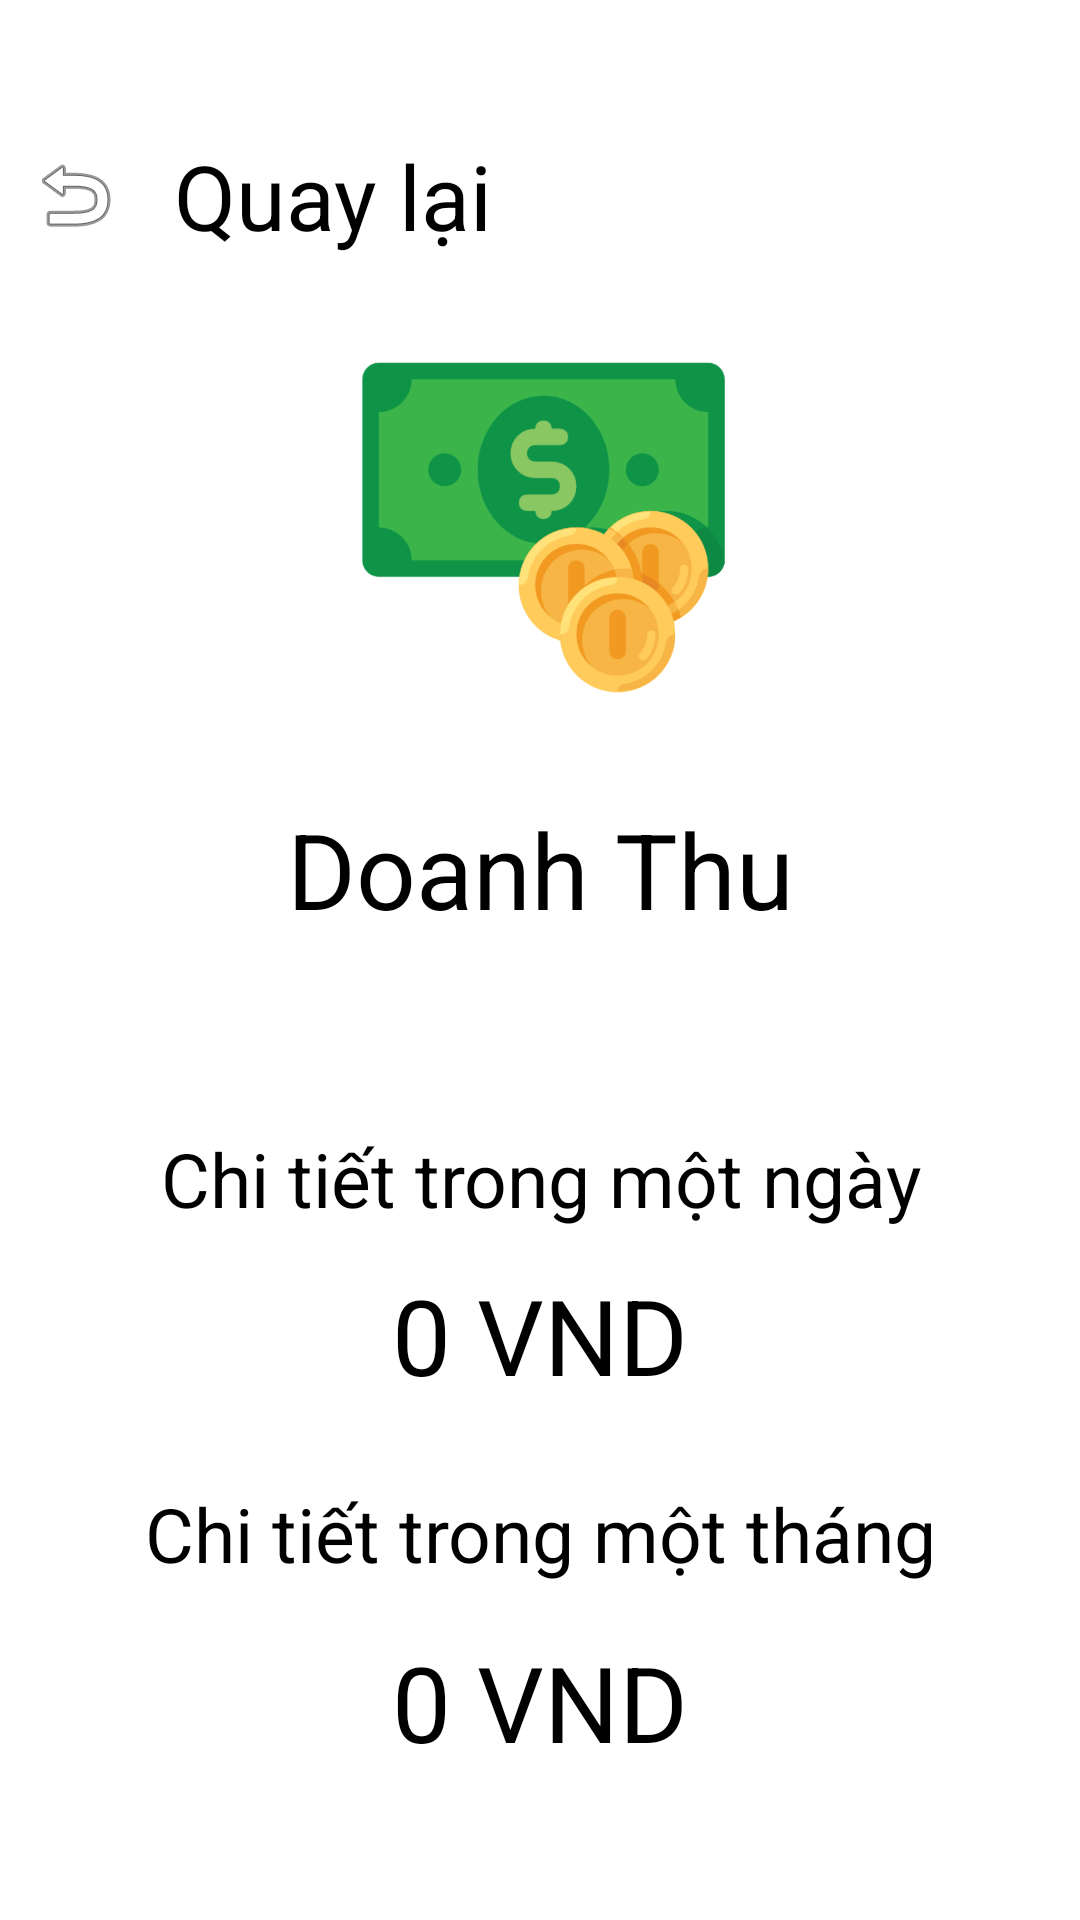

Icons on this 1080 x 1920 Android screen, each with its box as (x1, y1, x2, y2):
revert: (42, 164, 111, 227)
